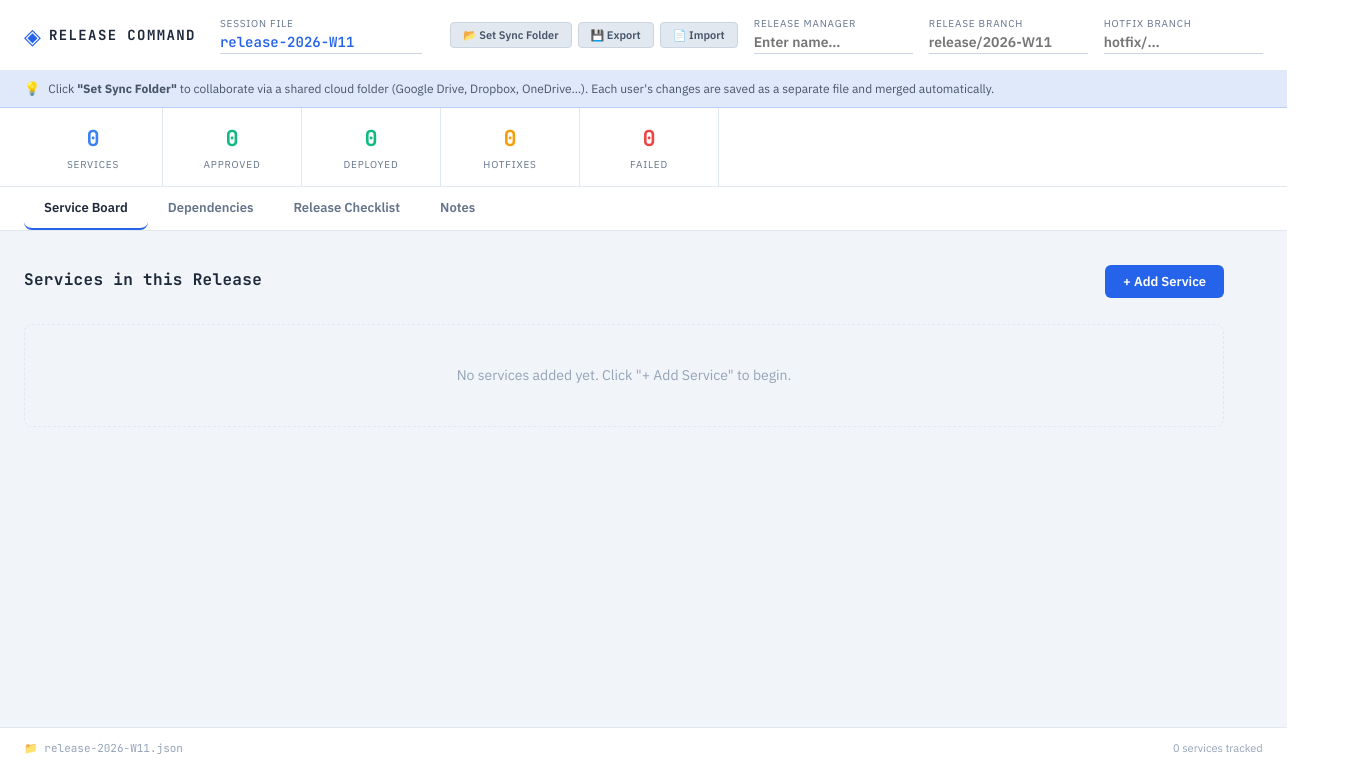
it: Notes tab › adds a sub-item when the ↳ button is clicked
What coordinates should you click on to do the following:
click the button "Notes"
I would click on:
 (458, 208)
Its box is [420,186,495,230].
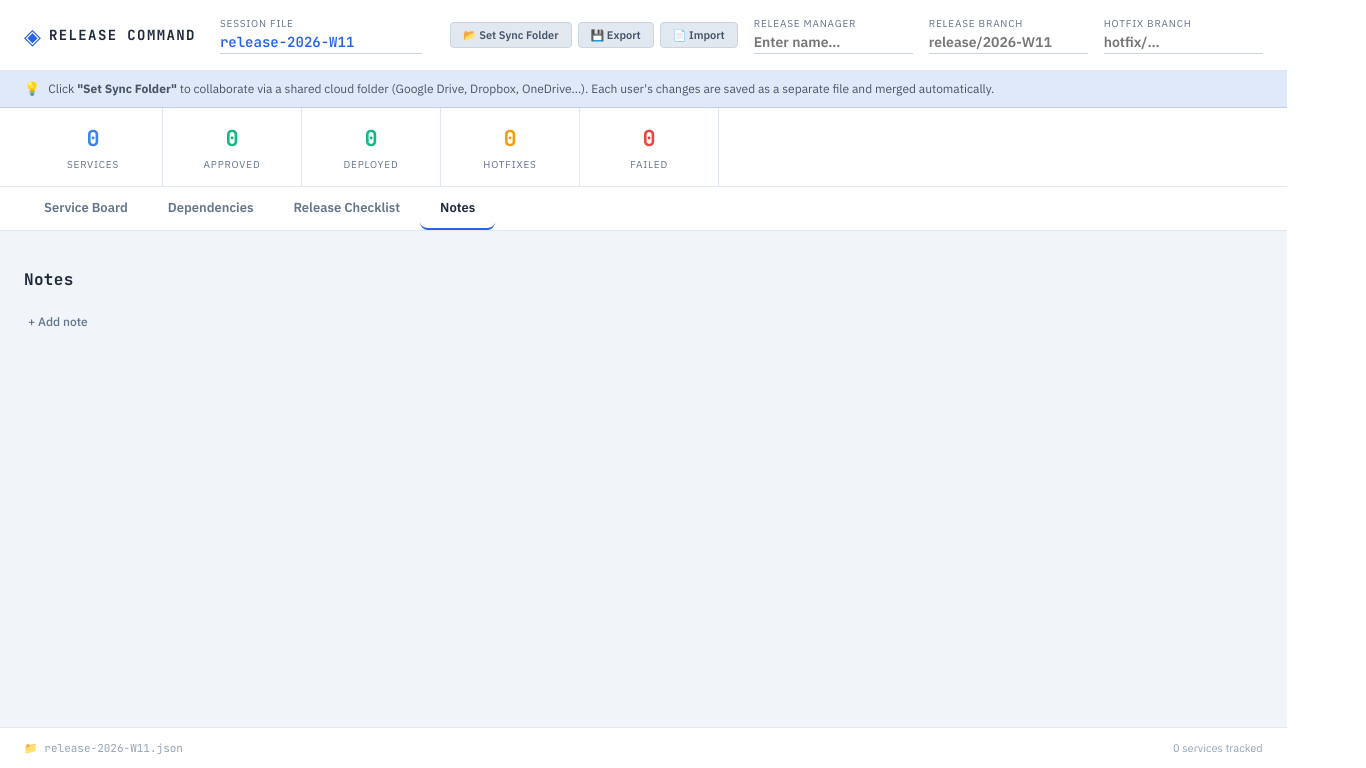
What coordinates should you click on to do the following:
click the button "+ Add note"
I would click on:
 (58, 321)
Its box is [24,308,92,335].
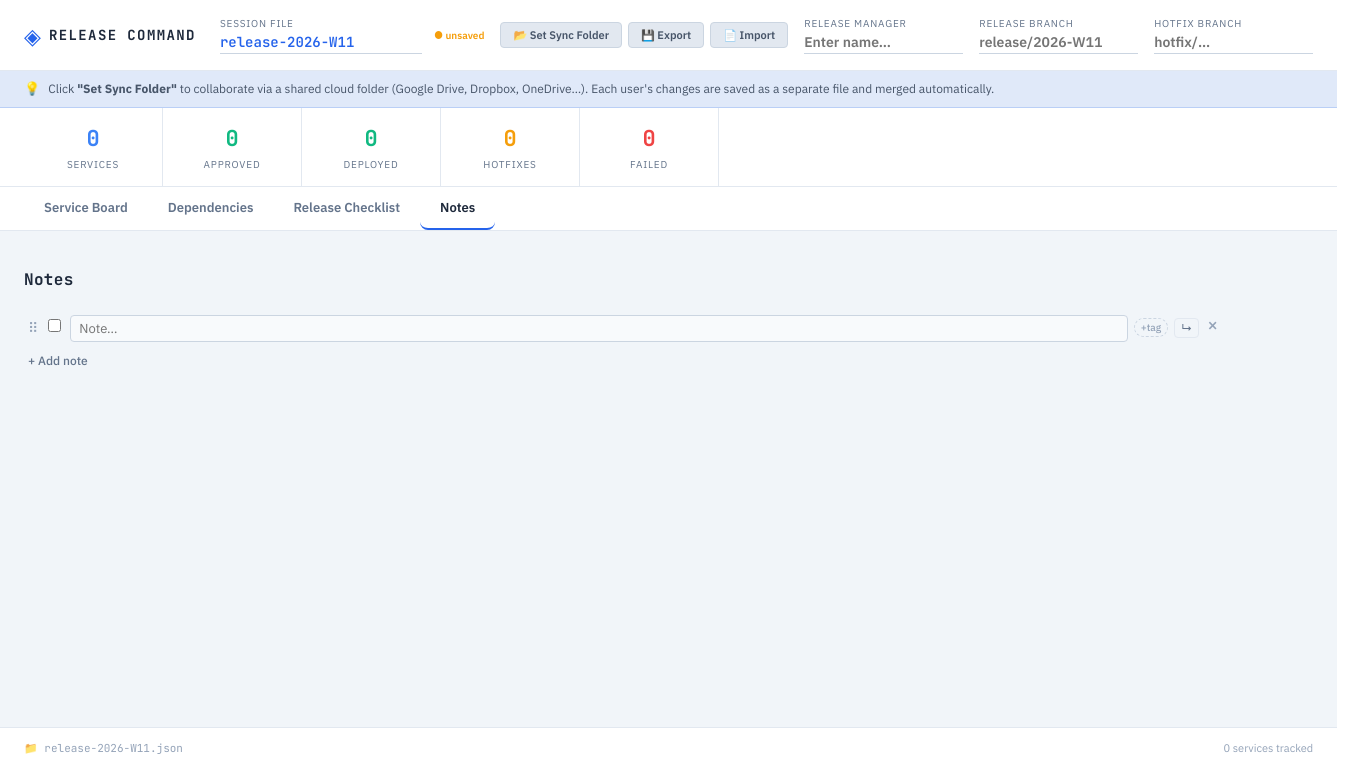
What coordinates should you click on to do the following:
click the button titled "Add sub-item"
I would click on:
 (1187, 328)
Its box is [1174,318,1199,338].
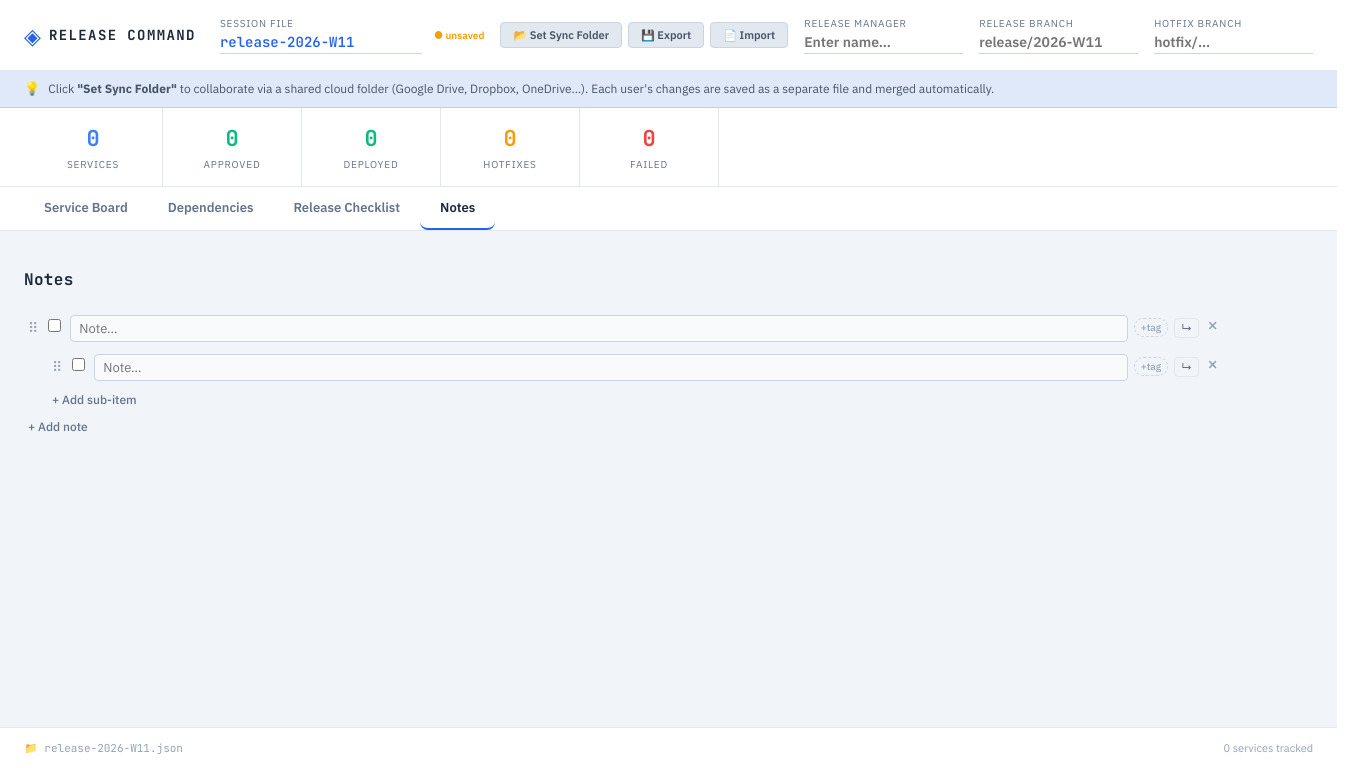
Check: the number of fields with placeholder "Note…" is 2, box [70,315,1128,342]; [94,354,1128,381]
